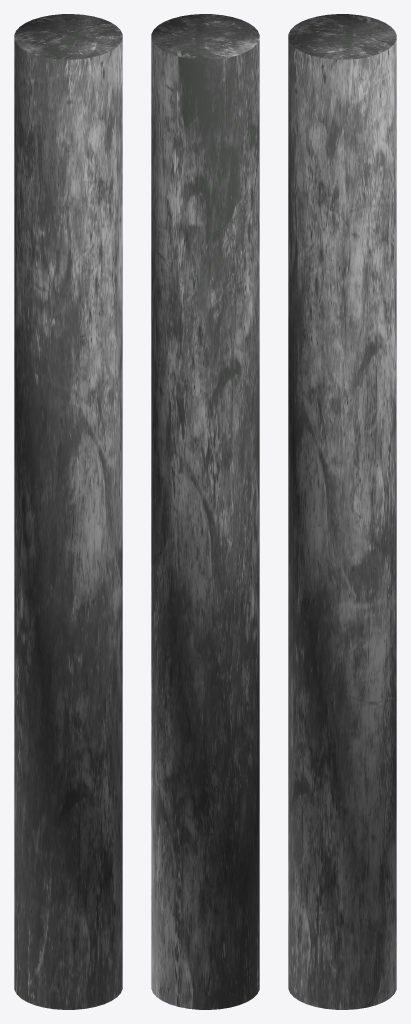
The model's file is abyss_lighthouse.obj.
The picture shows the model from 3 angles, left to right: view 1: azimuth 30°, elevation 25°; view 2: azimuth 150°, elevation 25°; view 3: azimuth 330°, elevation 25°; orthographic projection.
Visible parts, largest first — view 1: Cylinder; view 2: Cylinder; view 3: Cylinder.
Boxes of the visible parts, box(x1,y1,x2,y2) form: Cylinder: box(14, 14, 122, 1009); Cylinder: box(151, 14, 259, 1009); Cylinder: box(288, 14, 396, 1009).
Size of the model in its own units: 1.33 by 12.78 by 1.32.
